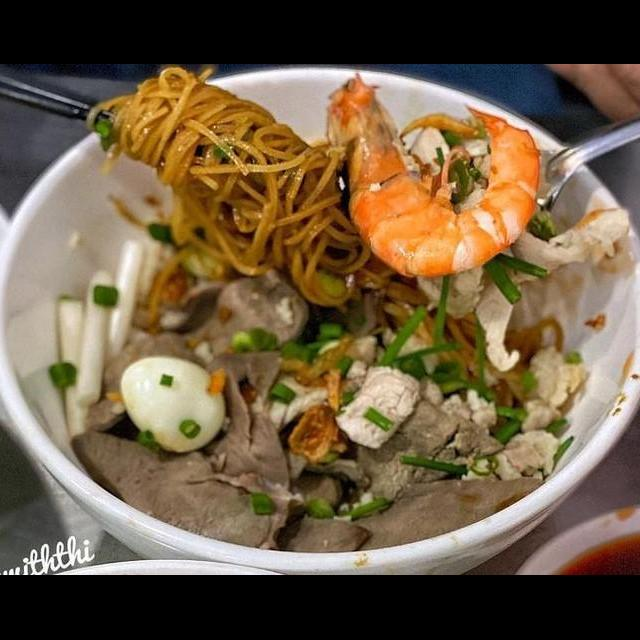gan: (66, 422, 308, 560), (172, 342, 294, 556), (328, 468, 548, 564), (348, 379, 508, 508)
mi: (78, 65, 378, 318)
mi tron: (0, 105, 640, 575)
thit bam: (452, 426, 562, 490)
thit heo: (468, 198, 632, 376), (245, 330, 426, 458), (396, 118, 492, 322), (512, 342, 590, 438)
tom: (320, 69, 546, 282)
trung: (112, 350, 230, 458)
